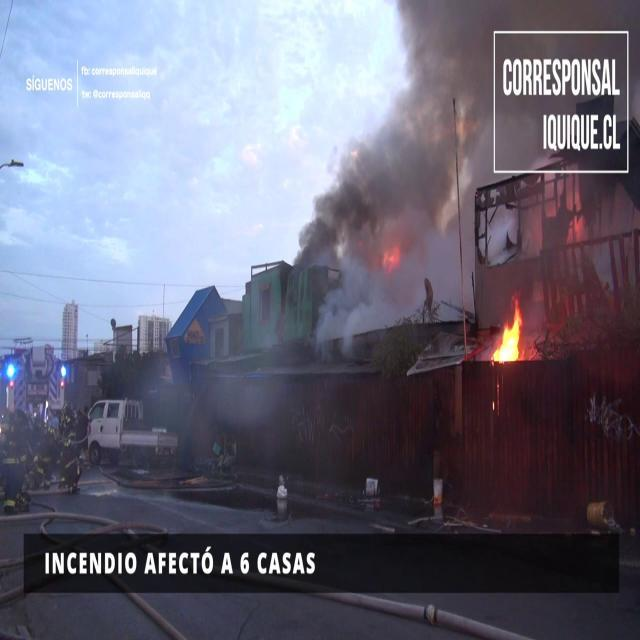Fire: (491, 299, 526, 366)
Smoke: (280, 2, 492, 336)
